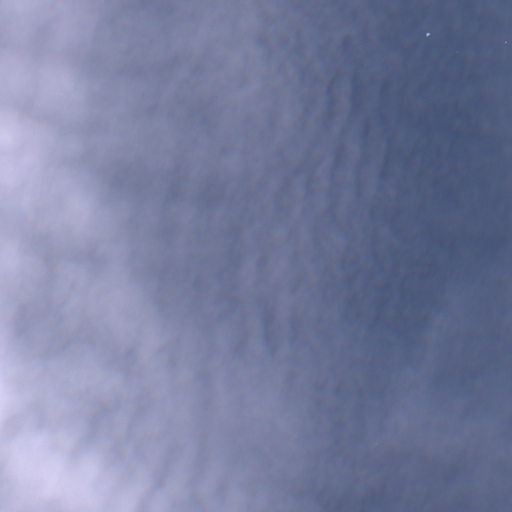Iceberg: (426, 32, 429, 36), (505, 41, 506, 42)
